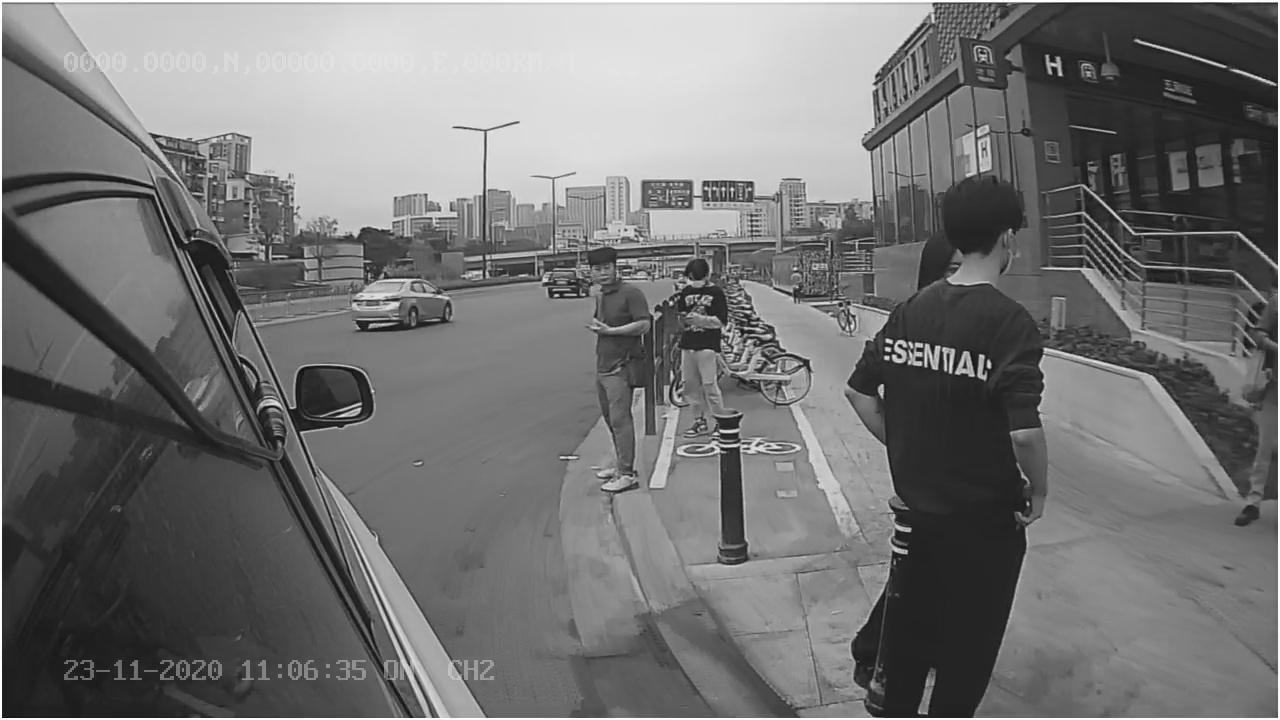person: (577, 239, 645, 508)
